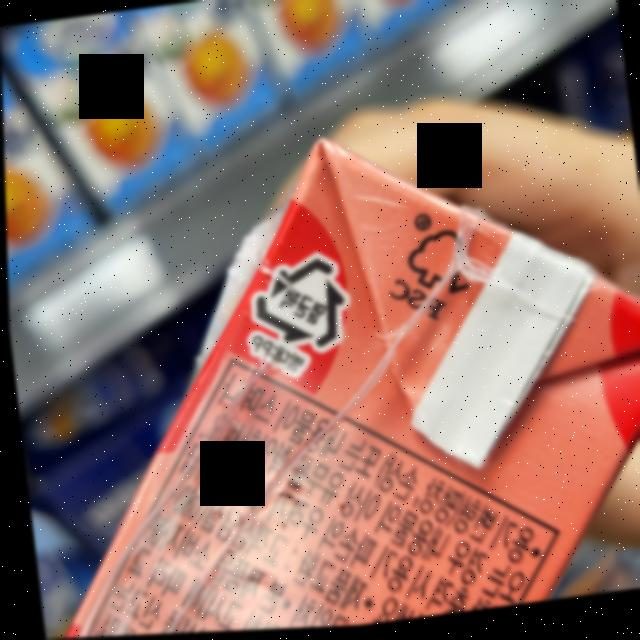SterilizedPack: (244, 248, 355, 359)
